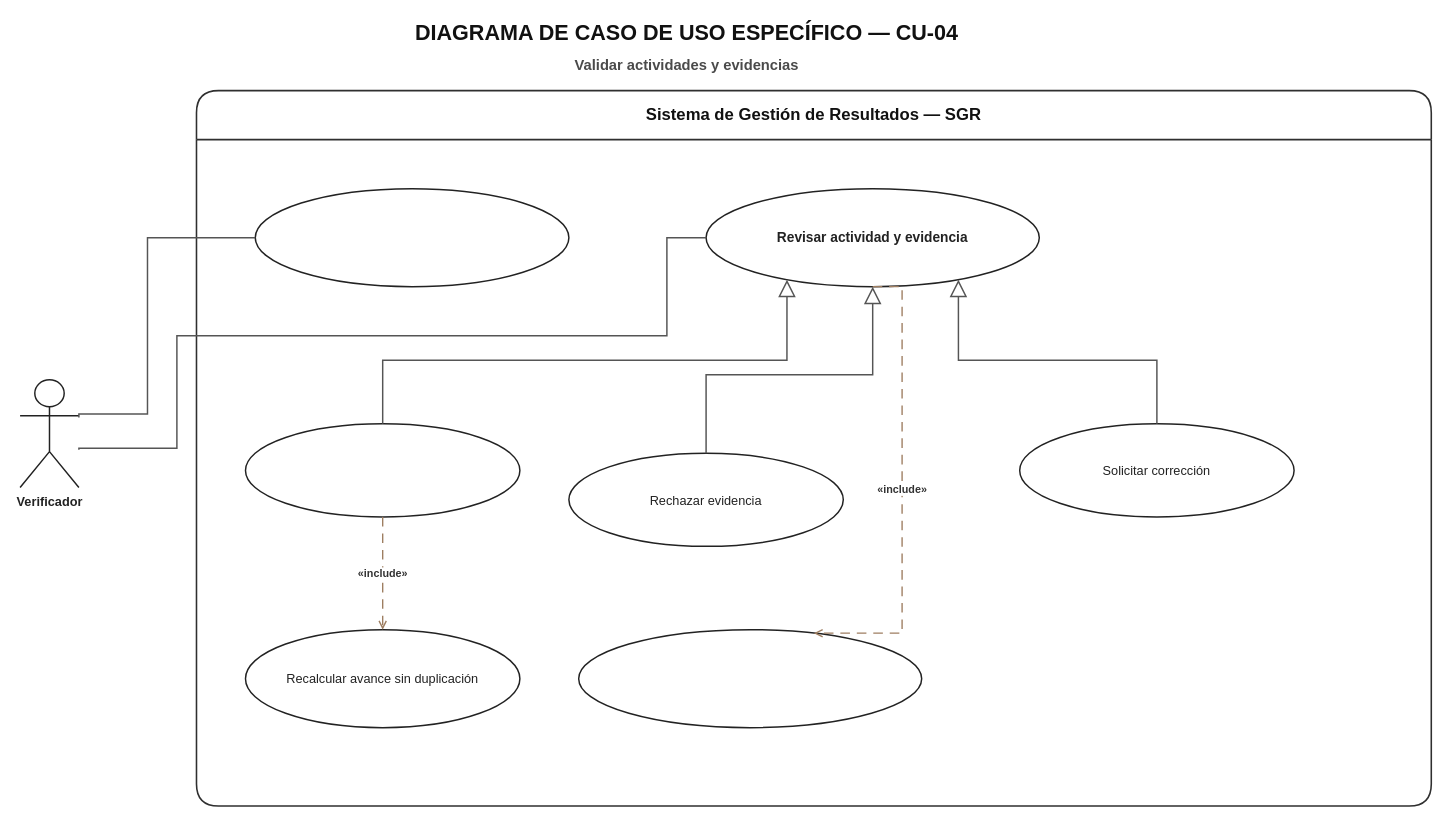
The diagram is 1449 pixels wide and 823 high, and some of its shapes have lost their labels. The shapes that lost their labels are listed below. From the top down, each one's box as (x1, y1, x2, y2) in pixels, then its label:
(254, 187, 569, 287): Consultar evidencias pendientes
(244, 423, 520, 517): Aprobar evidencia
(578, 628, 922, 728): Registrar decisión y trazabilidad
